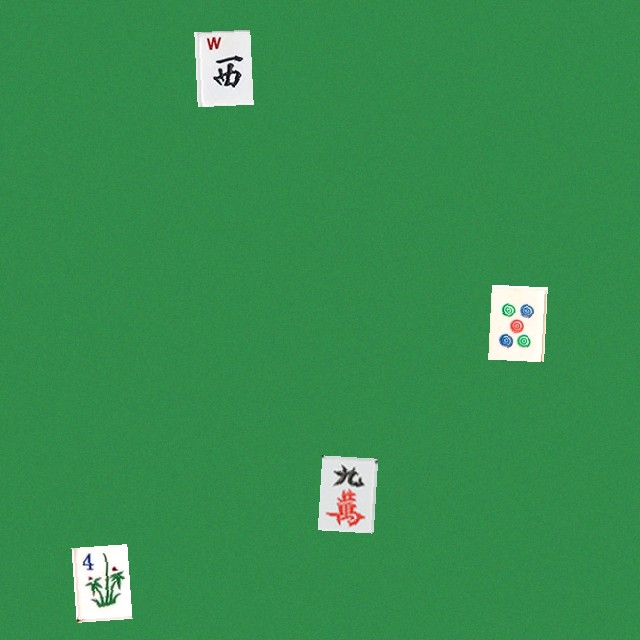tile: (194, 29, 250, 104), (488, 284, 544, 359), (71, 544, 127, 619), (317, 455, 373, 530)
